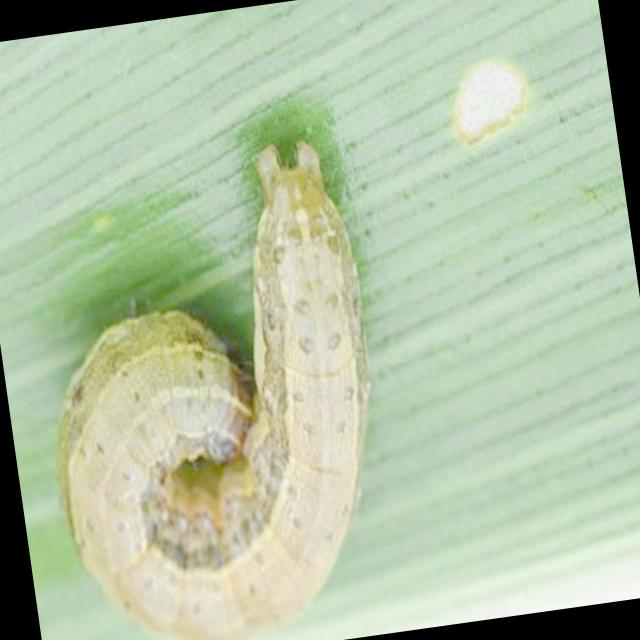pest: (27, 165, 401, 640)
